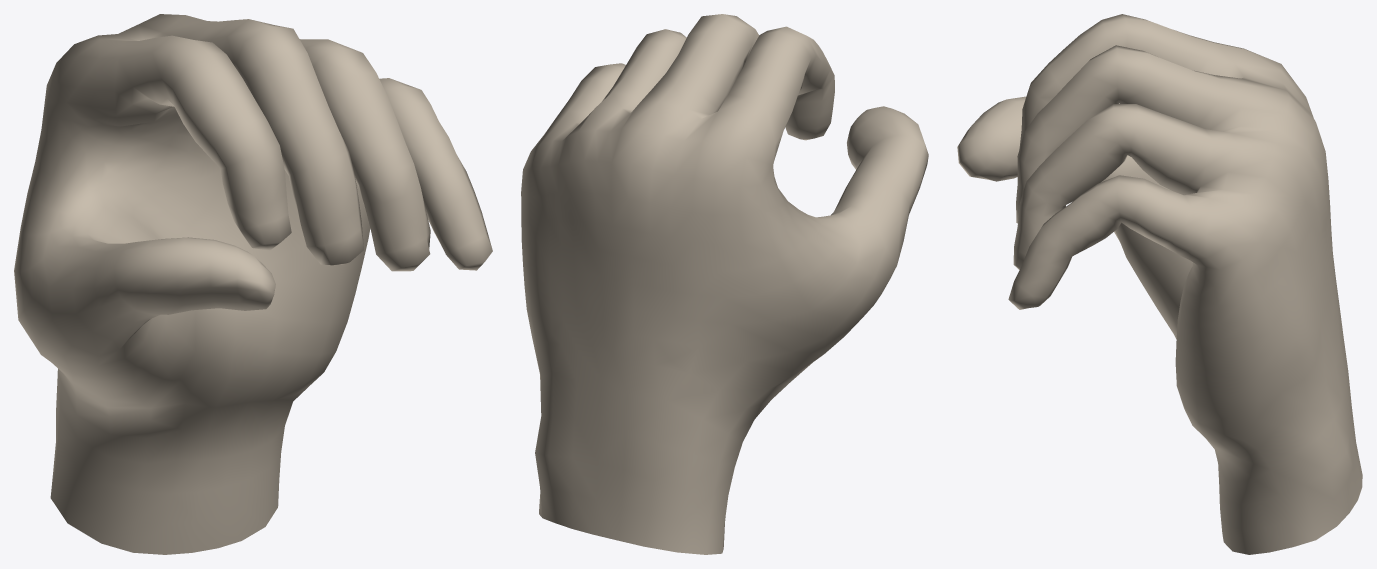
Rendered from left-hand-only.glb.
The picture shows the model from 3 angles, left to right: view 1: azimuth 30°, elevation 25°; view 2: azimuth 150°, elevation 25°; view 3: azimuth 270°, elevation 25°; orthographic projection. The views are drawn at different scales.
Parts seen in each view (by area): view 1: left_hand_fixed; view 2: left_hand_fixed; view 3: left_hand_fixed.
Part boxes in pixels (bbox=[...]): left_hand_fixed: bbox=[14, 14, 492, 554]; left_hand_fixed: bbox=[521, 14, 928, 554]; left_hand_fixed: bbox=[957, 14, 1362, 554].
Size of the model in its own units: 0.0981 by 0.1397 by 0.1069.
